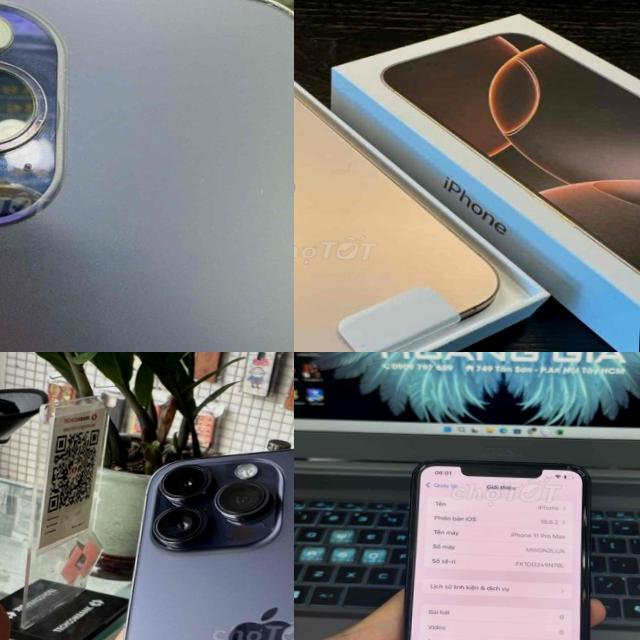scratch: (0, 0, 294, 36), (0, 146, 89, 213)
